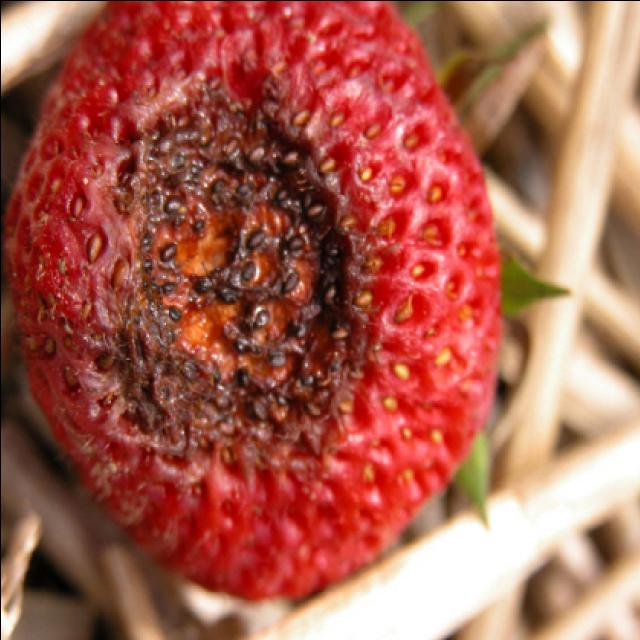Anthracnose Fruit Rot: (111, 143, 346, 423)
